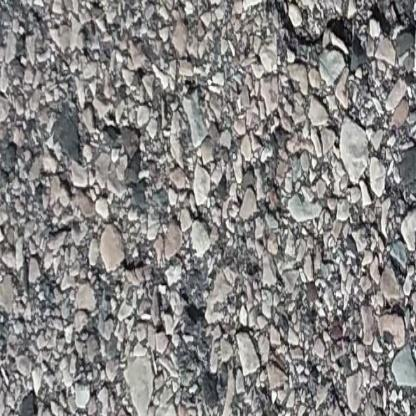Cracks: (269, 0, 416, 84), (308, 89, 333, 119)
